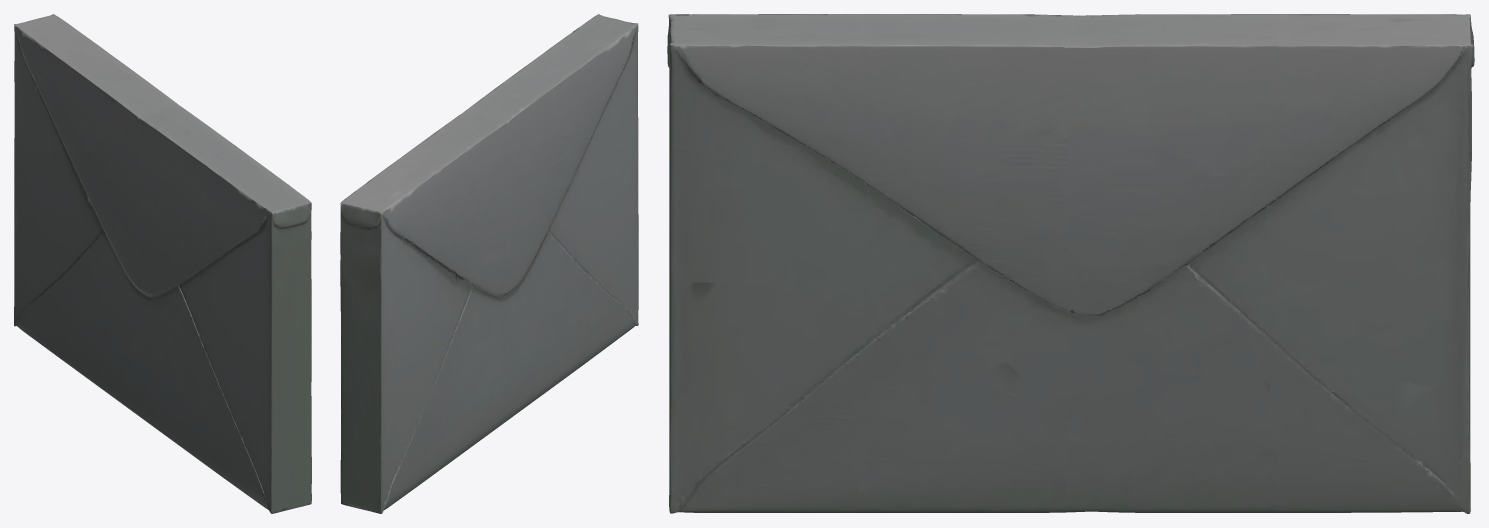
Rendered from mektup-opt-v1.glb.
3 views of the same model, side by side, from view 1: azimuth 30°, elevation 25°; view 2: azimuth 150°, elevation 25°; view 3: azimuth 270°, elevation 25° (orthographic). The views are drawn at different scales.
Visible parts, largest first — view 1: tripo_node_cc0040bc-ea1d-4243-b6e2-ca79e97cec0f; view 2: tripo_node_cc0040bc-ea1d-4243-b6e2-ca79e97cec0f; view 3: tripo_node_cc0040bc-ea1d-4243-b6e2-ca79e97cec0f.
Part boxes in pixels (x1,y1,x2,y2): tripo_node_cc0040bc-ea1d-4243-b6e2-ca79e97cec0f: (14,14,311,513); tripo_node_cc0040bc-ea1d-4243-b6e2-ca79e97cec0f: (340,14,638,513); tripo_node_cc0040bc-ea1d-4243-b6e2-ca79e97cec0f: (667,14,1474,513).
Size of the model in its own units: 0.1 by 0.6427 by 1.
Materials: 1 (1 with a texture image).
